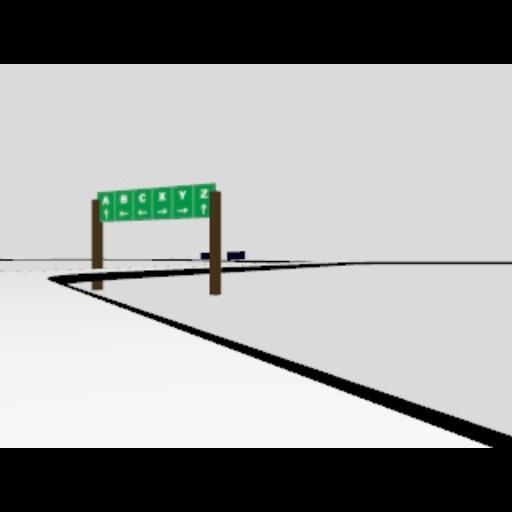A: (102, 195, 110, 205)
B: (120, 194, 128, 204)
C: (139, 193, 147, 203)
Left: (136, 210, 148, 216), (118, 210, 130, 216)
Right: (176, 207, 188, 213), (158, 208, 168, 214)
Straight: (201, 202, 207, 216), (103, 209, 109, 219)
X: (157, 191, 167, 201)
Y: (179, 190, 187, 200)
Z: (200, 188, 210, 200)
